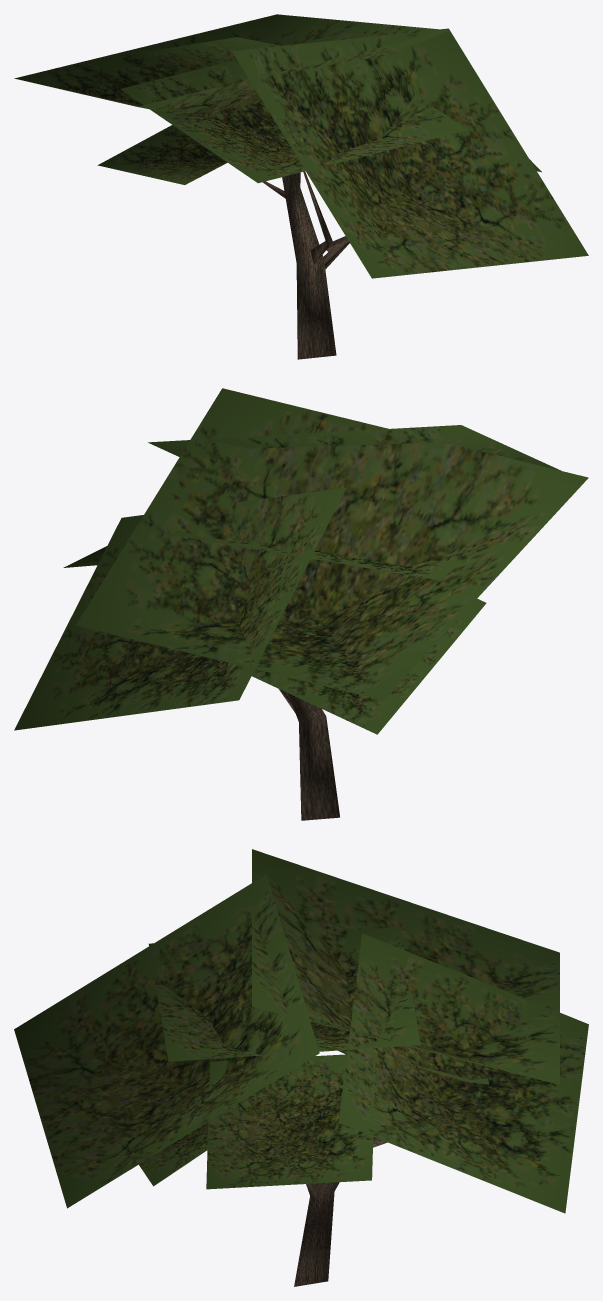
Rendered from decd_mkpodtree_l2.fbx.
3 renders of one model, top to bottom at view 1: azimuth 30°, elevation 25°; view 2: azimuth 150°, elevation 25°; view 3: azimuth 270°, elevation 25°, orthographic. The views are drawn at different scales.
Parts seen in each view (by area): view 1: mesh_node; view 2: mesh_node; view 3: mesh_node.
Boxes of the visible parts, <box> form: mesh_node: <box>14,14,588,359</box>; mesh_node: <box>14,388,588,820</box>; mesh_node: <box>14,849,588,1286</box>.
Bounding box in the file's own units: 12.88 × 10.76 × 15.87.
